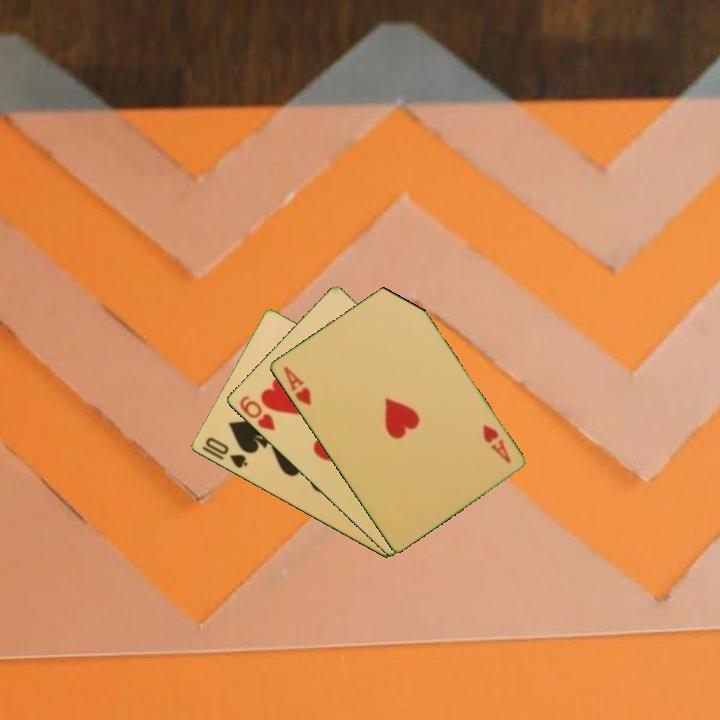10s: (201, 434, 250, 471)
6h: (236, 392, 278, 434)
Ah: (280, 363, 314, 409), (479, 421, 513, 466)
